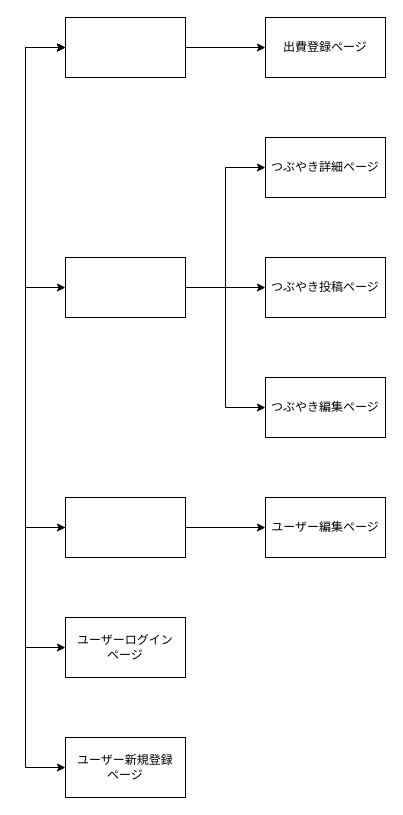
Some shapes in this 403 by 815 pixel diagram are drawn without their labels. Here are the shapes that lost their labels. From the top down, the centre of each, then its label:
At point 125,47: "出費一覧ページ".
At point 125,287: "つぶやき一覧ページ".
At point 125,527: "ユーザーマイページ".
